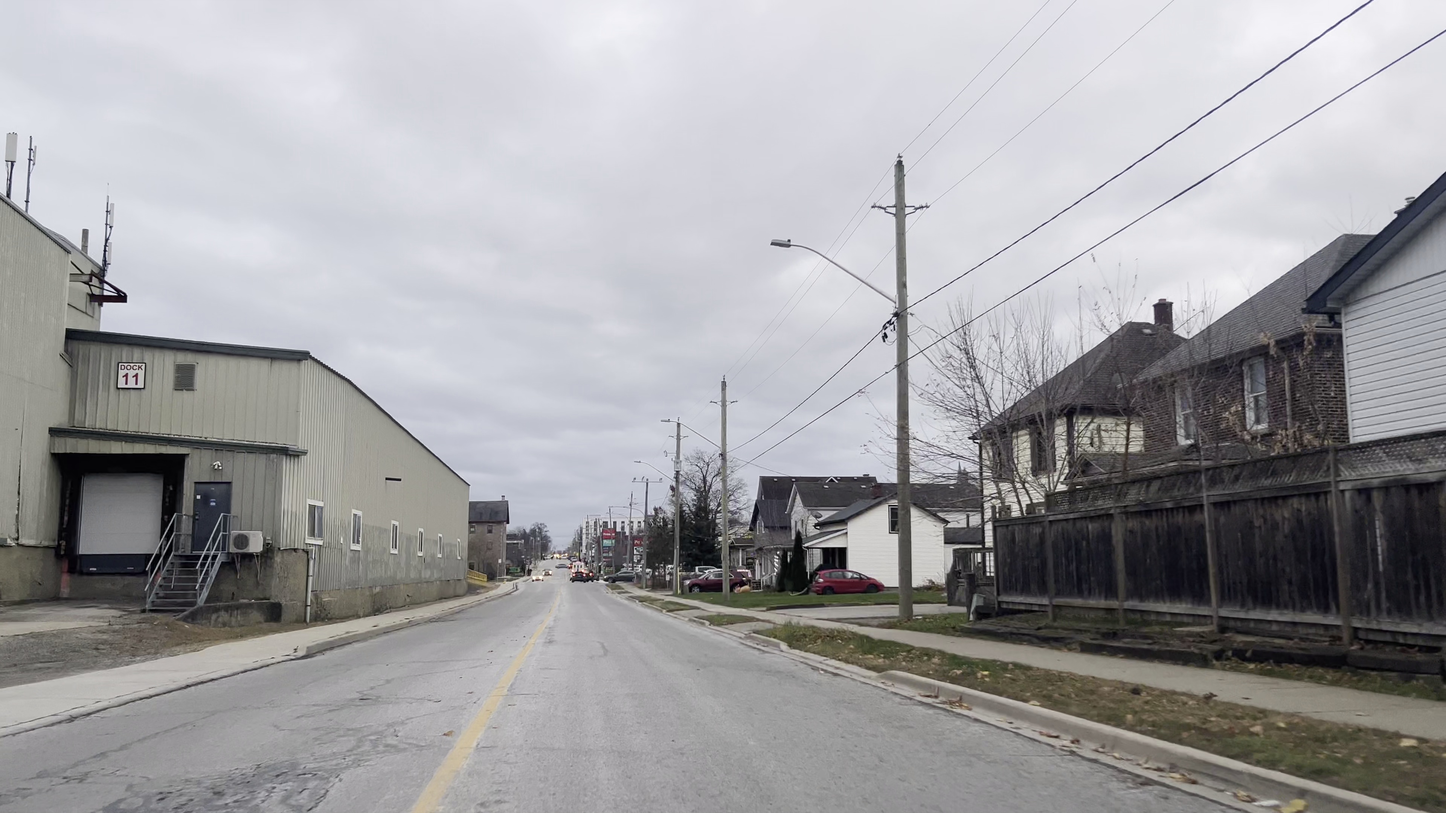cracks: (140, 775, 357, 810), (245, 718, 428, 752)
